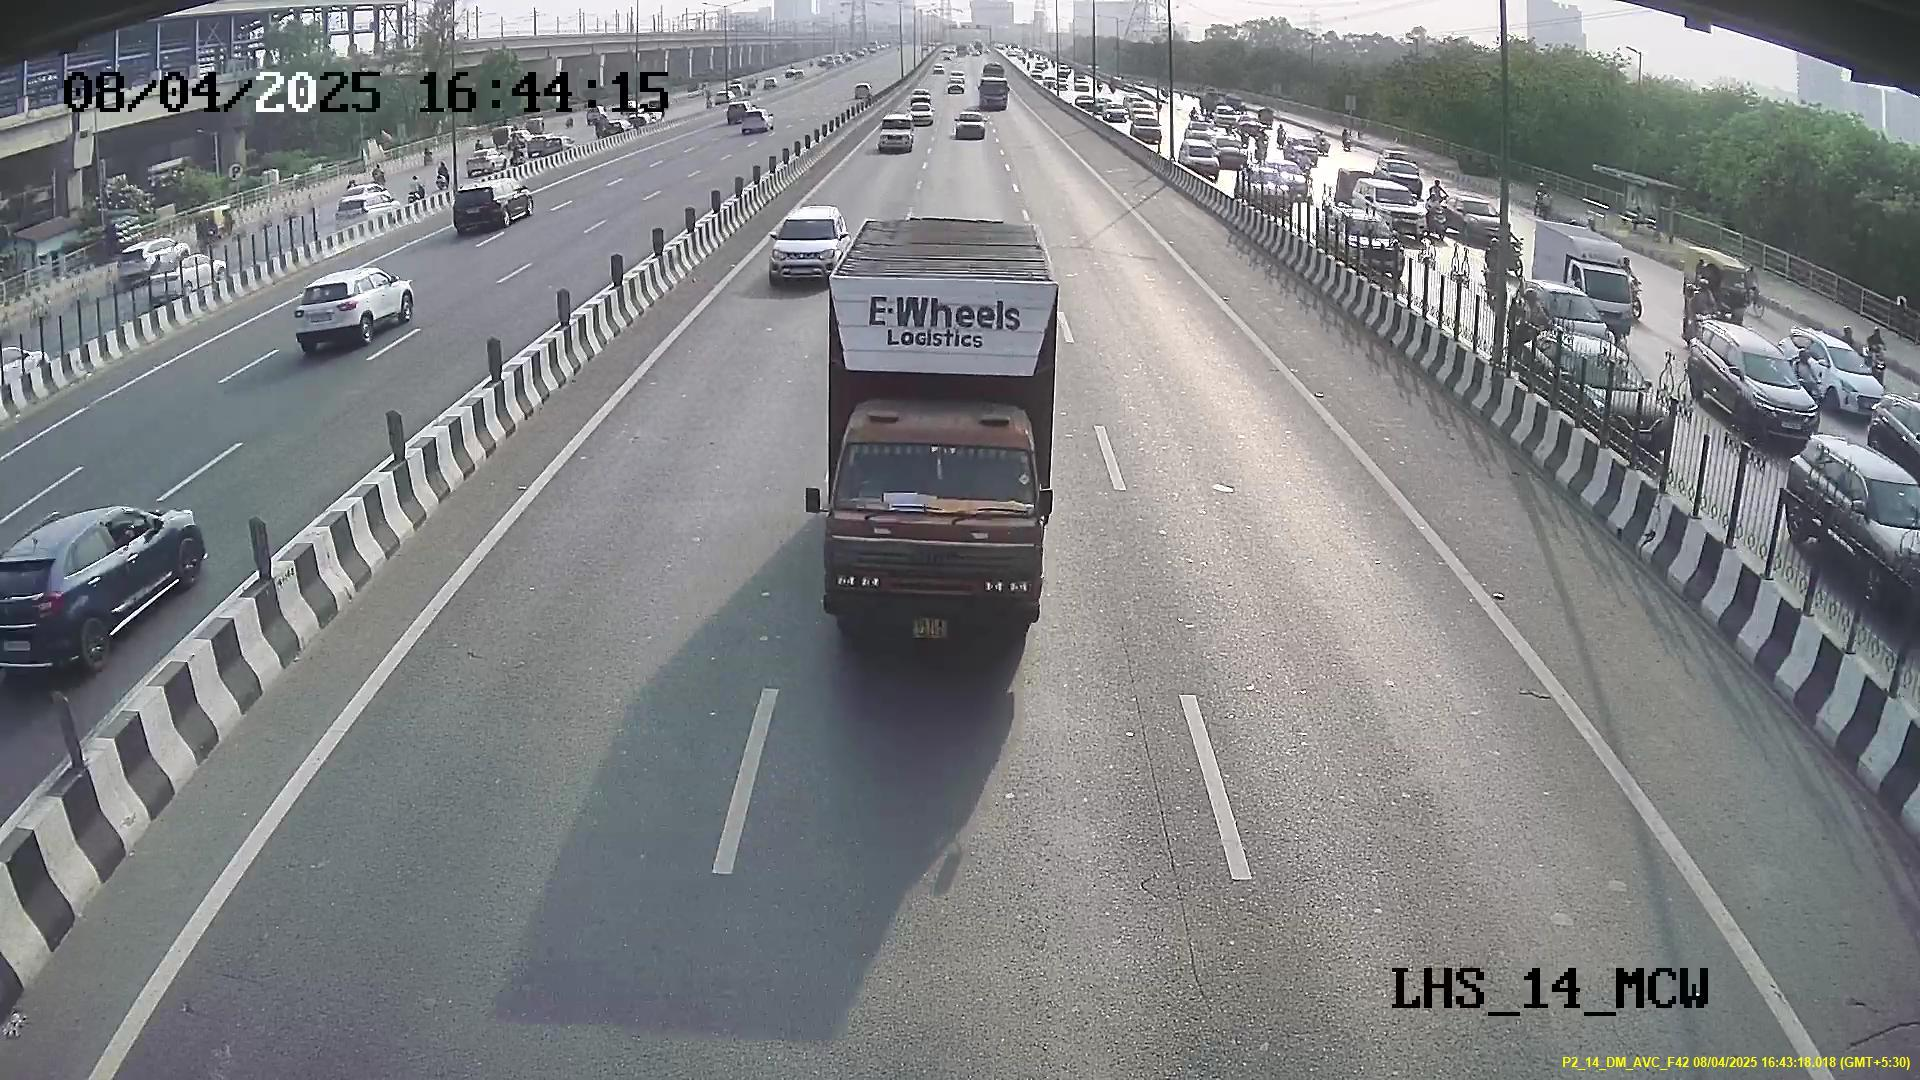lcv: (819, 411, 1068, 651)
